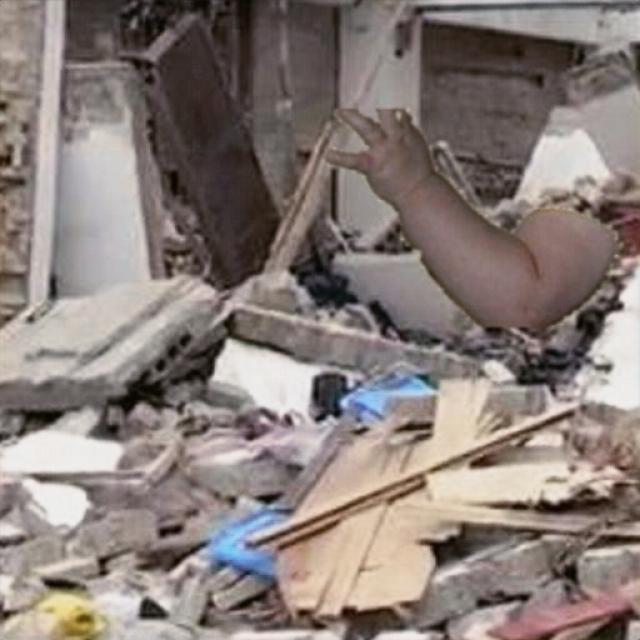Person in Rubble: (322, 108, 622, 326)
